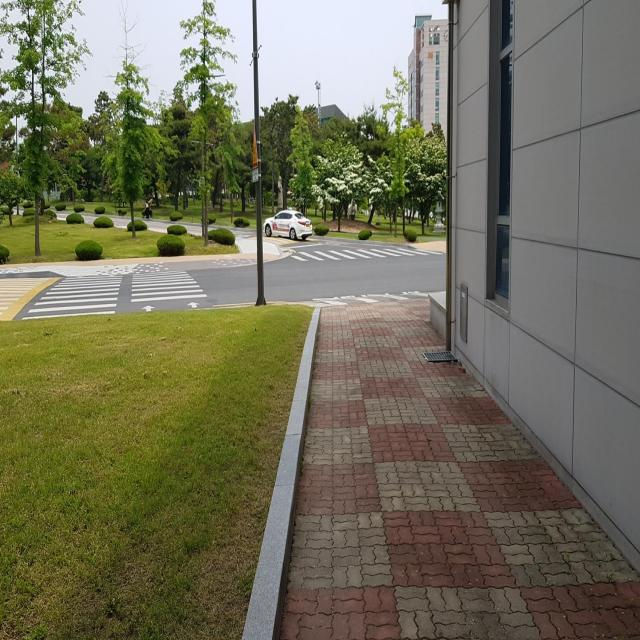횡단보도: (21, 268, 208, 322), (289, 242, 444, 262)
